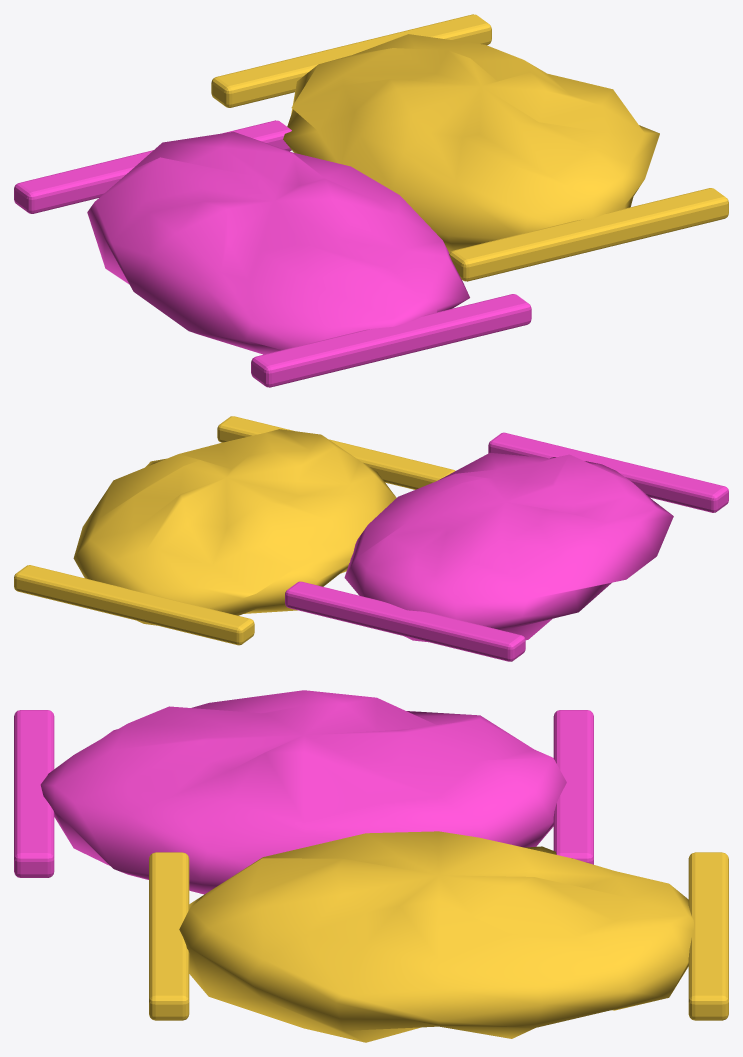
File: Trash_ChipBag.fbx
The picture shows the model from 3 angles, top to bottom: view 1: azimuth 30°, elevation 25°; view 2: azimuth 150°, elevation 25°; view 3: azimuth 270°, elevation 25°; orthographic projection. The views are drawn at different scales.
Parts seen in each view (by area): view 1: Trash_ChipBag; view 2: Trash_ChipBag; view 3: Trash_ChipBag.
Part boxes in pixels (box(x1,y1,x2,y2)): Trash_ChipBag: box(14, 14, 728, 387); Trash_ChipBag: box(14, 416, 728, 661); Trash_ChipBag: box(14, 690, 728, 1042).
Bounding box in the file's own units: 0.5272 × 0.1175 × 0.53.
